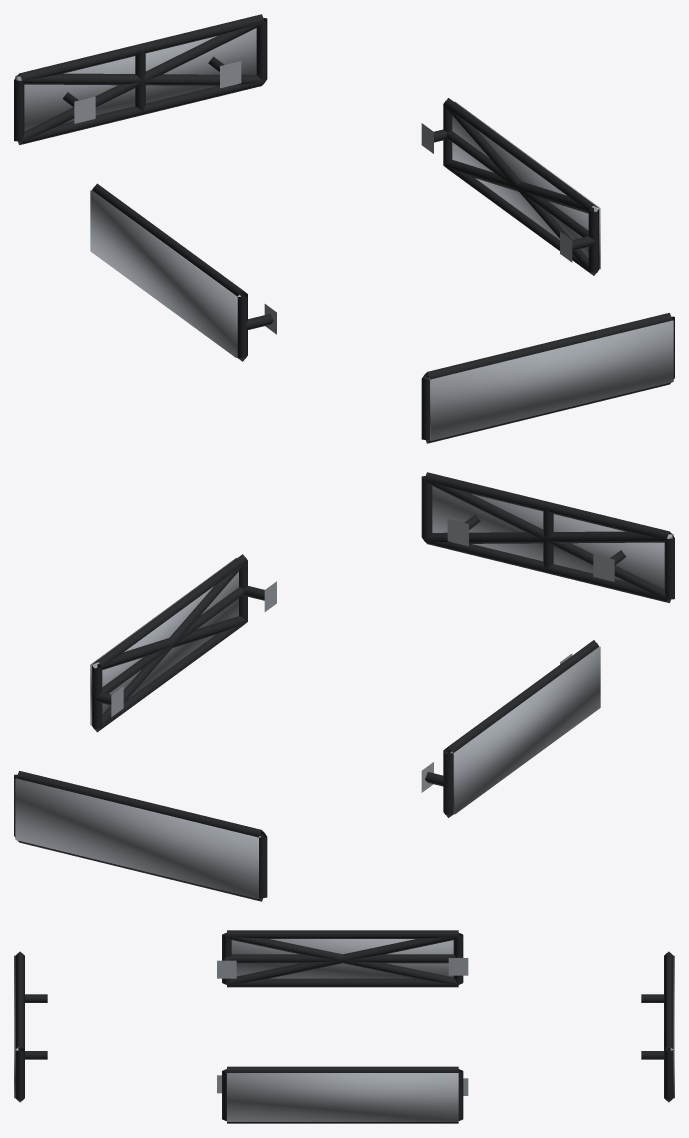
The model's file is feldhaus_fruta_protecao.glb.
3 renders of one model, top to bottom at view 1: azimuth 30°, elevation 25°; view 2: azimuth 150°, elevation 25°; view 3: azimuth 270°, elevation 25°, orthographic. The views are drawn at different scales.
Visible parts, largest first — view 1: Protection_front_Level3_Details, Protection_left_Level3_Details, Protection_rear_Level1_Details, Protection_rear_Level3_Details, Protection_right_Level1_Details, Protection_rear_Level2_Details, Protection_right_Level2_Details, Protection_right_Level3_Details, Protection_front_Level1_Details, Protection_left_Level1_Details; view 2: Protection_rear_Level3_Details, Protection_left_Level3_Details, Protection_front_Level1_Details, Protection_front_Level3_Details, Protection_right_Level1_Details, Protection_front_Level2_Details, Protection_right_Level2_Details, Protection_right_Level3_Details, Protection_rear_Level1_Details, Protection_left_Level1_Details; view 3: Protection_right_Level3_Details, Protection_left_Level1_Details, Protection_left_Level2_Details, Protection_left_Level3_Details, Protection_right_Level1_Details, Protection_rear_Level1_Details, Protection_front_Level1_Details.
Boxes of the visible parts, x1,y1,x2,y2 form: Protection_front_Level3_Details: [428, 320, 673, 440]; Protection_left_Level3_Details: [90, 190, 240, 357]; Protection_rear_Level1_Details: [14, 14, 267, 144]; Protection_rear_Level3_Details: [15, 28, 256, 131]; Protection_right_Level1_Details: [421, 98, 599, 275]; Protection_rear_Level2_Details: [16, 22, 264, 143]; Protection_right_Level2_Details: [443, 105, 597, 275]; Protection_right_Level3_Details: [452, 101, 600, 269]; Protection_front_Level1_Details: [421, 313, 674, 443]; Protection_left_Level1_Details: [92, 183, 276, 361]; Protection_rear_Level3_Details: [15, 778, 260, 898]; Protection_left_Level3_Details: [450, 646, 600, 814]; Protection_front_Level1_Details: [421, 472, 674, 602]; Protection_front_Level3_Details: [432, 486, 673, 589]; Protection_right_Level1_Details: [92, 554, 276, 732]; Protection_front_Level2_Details: [424, 480, 672, 601]; Protection_right_Level2_Details: [93, 561, 247, 731]; Protection_right_Level3_Details: [90, 558, 238, 725]; Protection_rear_Level1_Details: [14, 771, 267, 901]; Protection_left_Level1_Details: [421, 640, 598, 817]; Protection_right_Level3_Details: [227, 1073, 458, 1121]; Protection_left_Level1_Details: [217, 930, 468, 987]; Protection_left_Level2_Details: [226, 933, 458, 984]; Protection_left_Level3_Details: [231, 939, 453, 978]; Protection_right_Level1_Details: [217, 1066, 468, 1123]; Protection_rear_Level1_Details: [641, 951, 673, 1102]; Protection_front_Level1_Details: [15, 951, 47, 1102].
Bounding box in the file's own units: 1.88 × 0.354 × 3.71.
1 material, 1 textured.
